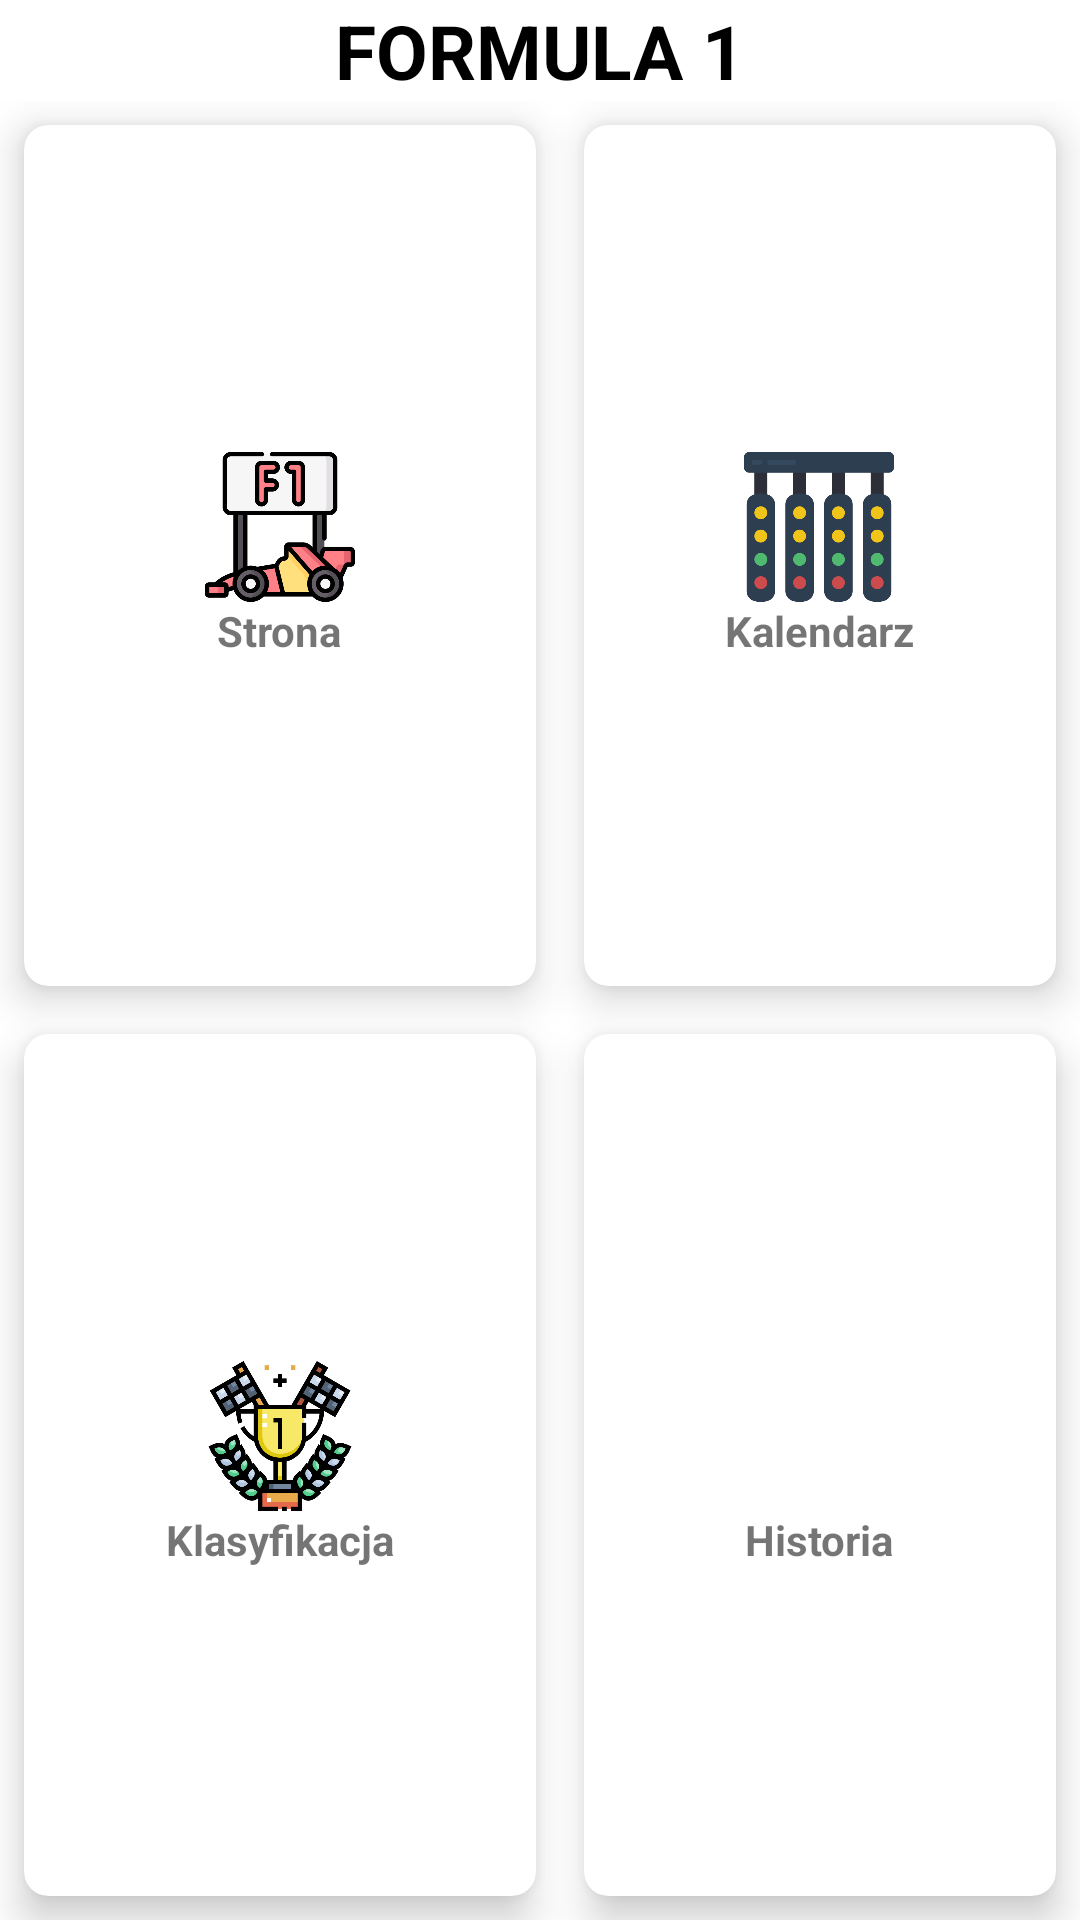

Icons on this 1080px×1920px Android screen, each with its box as [left=x1, top=y1, right=x2, bottom=y2]:
lights: [left=744, top=452, right=894, bottom=602]
sign: [left=205, top=452, right=355, bottom=602]
trophy: [left=208, top=1361, right=352, bottom=1511]
